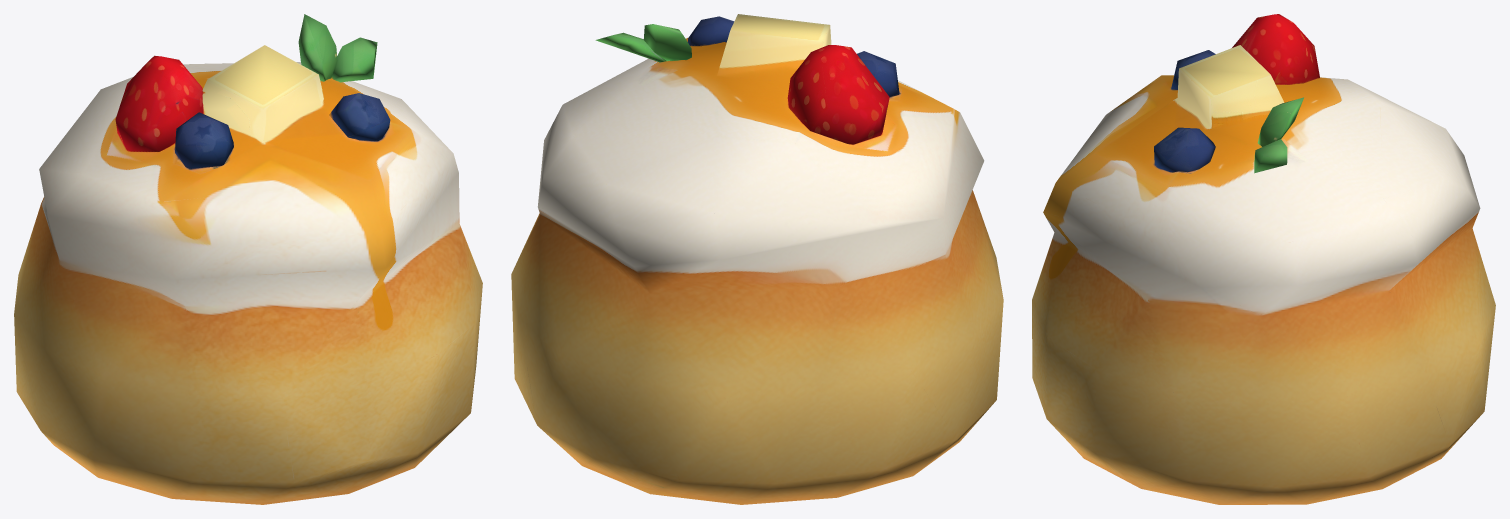
Rendered from source.fbx.
3 views of the same model, side by side, from view 1: azimuth 30°, elevation 25°; view 2: azimuth 150°, elevation 25°; view 3: azimuth 270°, elevation 25° (orthographic). The views are drawn at different scales.
Visible parts, largest first — view 1: Mesh_0; view 2: Mesh_0; view 3: Mesh_0.
Part boxes in pixels (left/top/right/bottom): Mesh_0: left=14, top=14, right=482, bottom=504; Mesh_0: left=511, top=14, right=1003, bottom=504; Mesh_0: left=1032, top=14, right=1495, bottom=504.
Bounding box in the file's own units: 20.34 × 18 × 20.29.
1 material, 1 textured.
